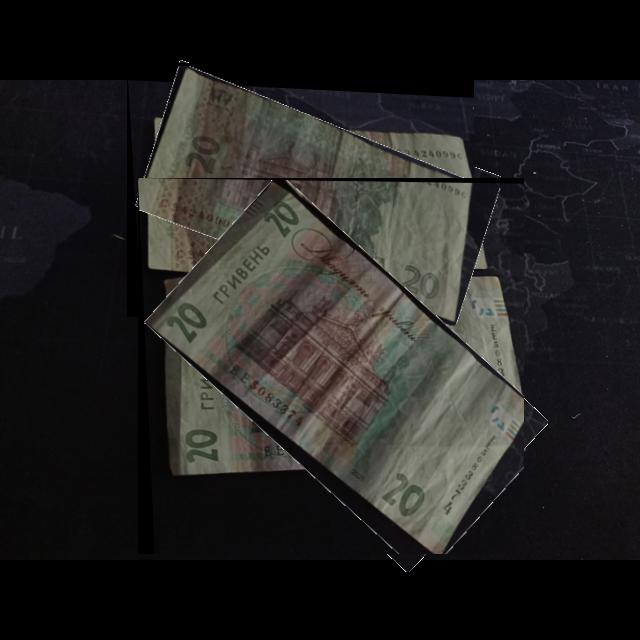20uah: (144, 180, 525, 555), (134, 65, 475, 318)
